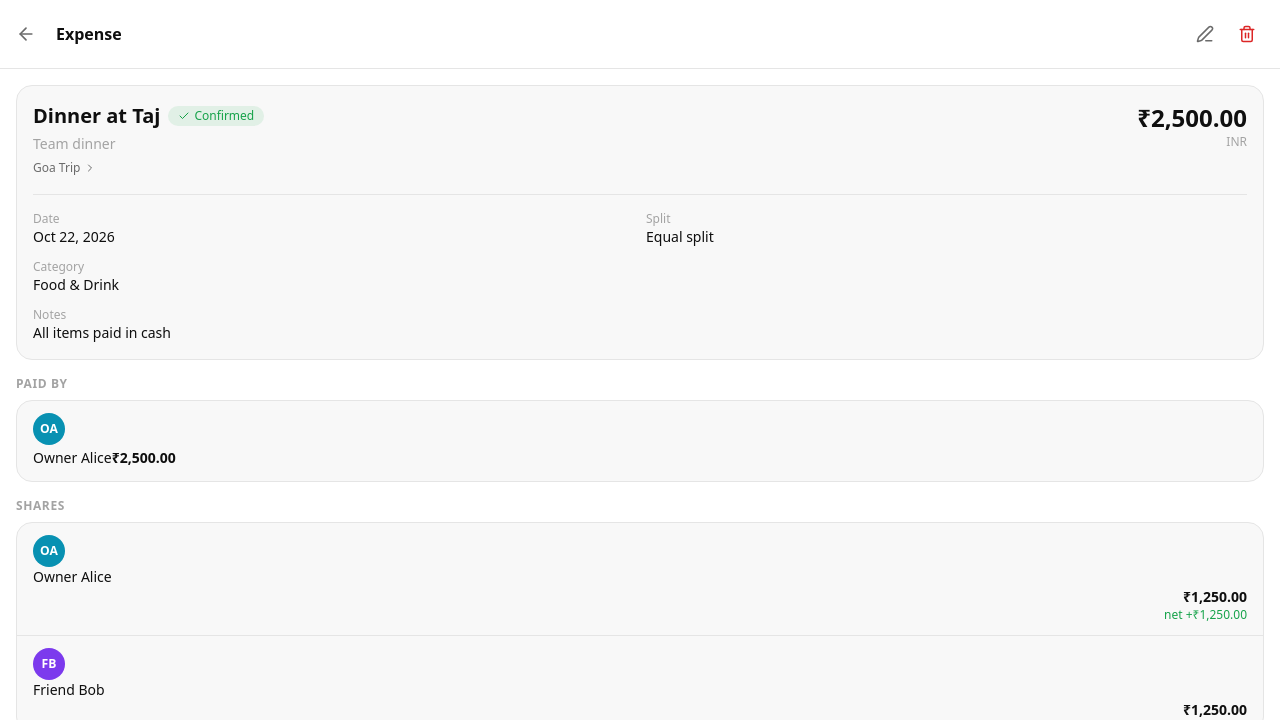
ExpenseDetailPage owner-only deletion › handles backend rejection safely: keeps expense in view and displays error message
Click the button named "Delete expense" at x=1247, y=34, box x1=1230 y1=12 x2=1264 y2=56
(page scrolled)
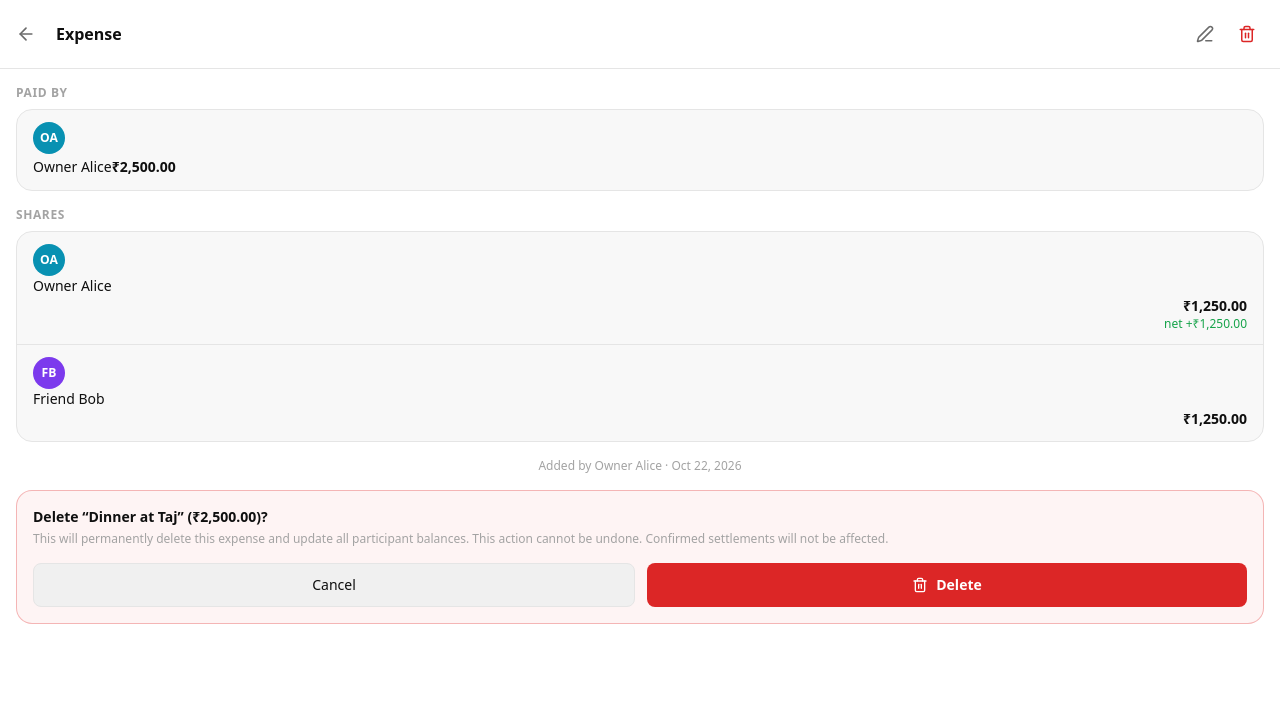
Click the button "Delete" at x=947, y=585, box x1=647 y1=563 x2=1247 y2=607
(page scrolled)
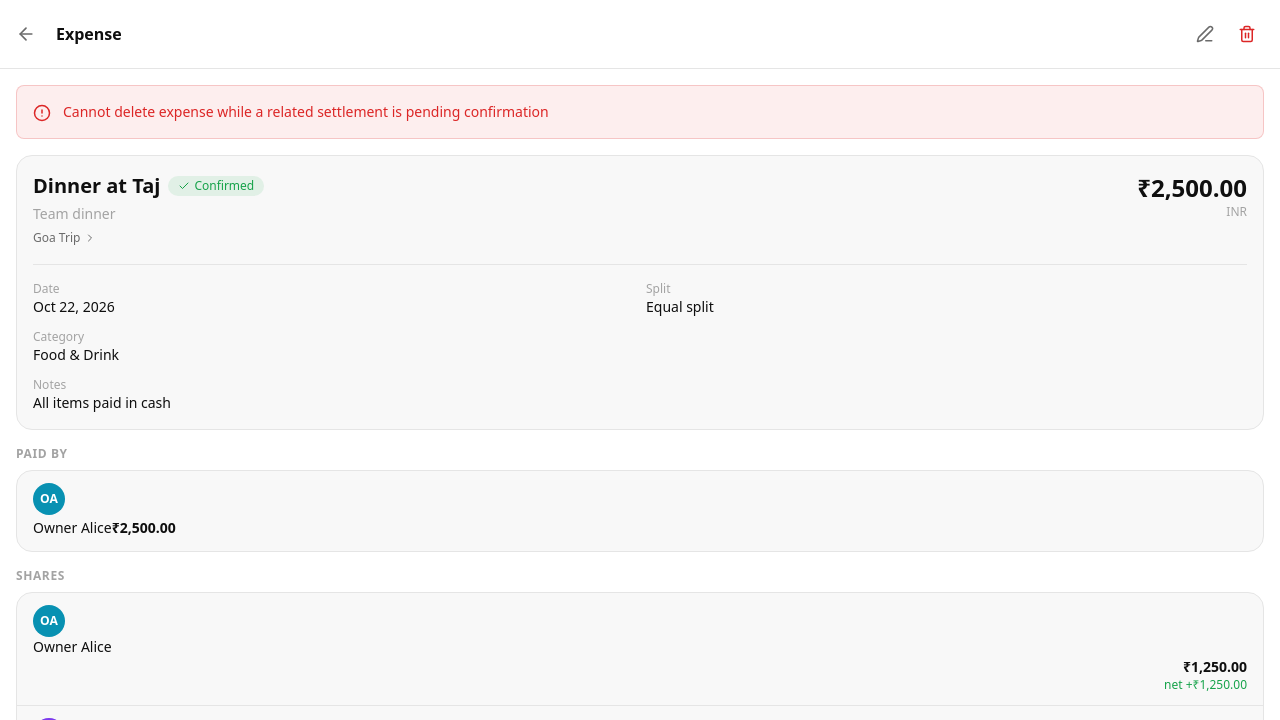
Check: the heading "Dinner at Taj" is shown, box x1=33 y1=172 x2=160 y2=200
Check: the text "Cannot delete expense while a related settlement is pending confirmation" is shown, box x1=63 y1=102 x2=549 y2=121
